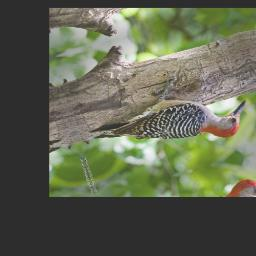Woodpecker: (77, 51, 256, 177)
